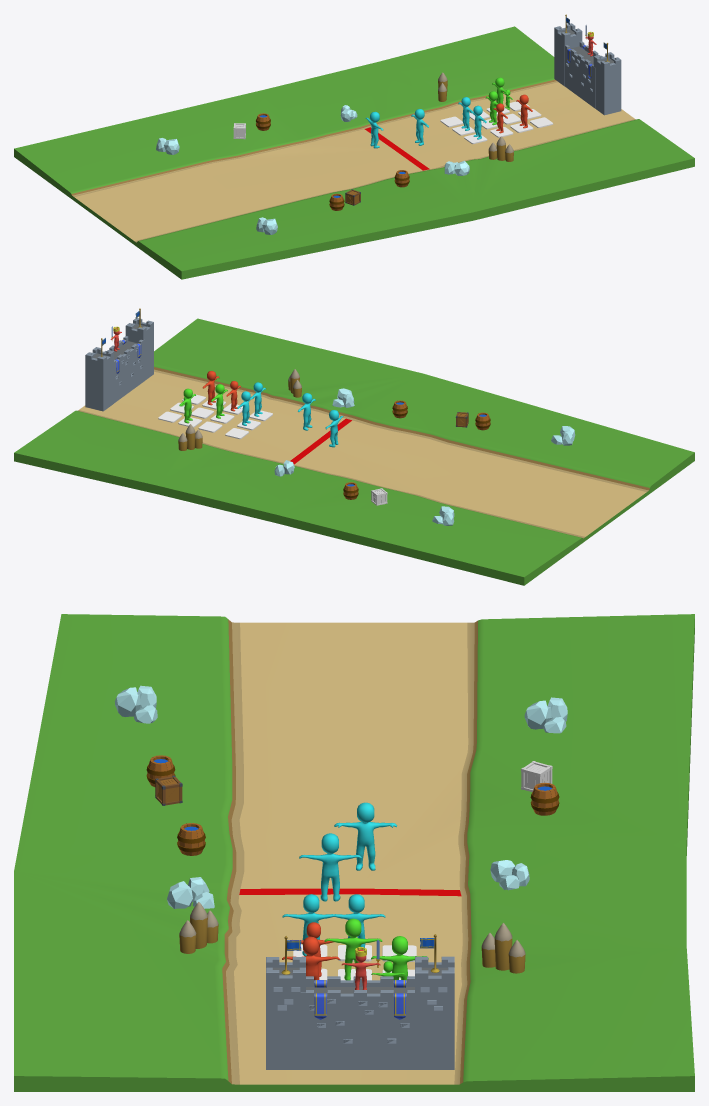
Rendered from LAST ONE (1).fbx.
3 renders of one model, top to bottom at view 1: azimuth 30°, elevation 25°; view 2: azimuth 150°, elevation 25°; view 3: azimuth 270°, elevation 25°, orthographic. The views are drawn at different scales.
Parts seen in each view (by area): view 1: Cube.001, castle, Cube.002, Cylinder.003; view 2: Cube.001, castle, Cube.002, Cylinder.001; view 3: Cube.001, castle, Cylinder.001, Cylinder.003, Mayham.008, Mayham.009, Cube.002, Mayham.003, BARREL, BARREL.001, Mayham.004, wooden boü.001 (+1 smaller).
Boxes of the visible parts, <box> form: Cube.001: <box>14,26,694,279</box>; castle: <box>554,14,621,115</box>; Cube.002: <box>440,101,553,144</box>; Cylinder.003: <box>488,136,513,161</box>; Cube.001: <box>14,318,694,585</box>; castle: <box>85,308,153,411</box>; Cube.002: <box>158,394,272,439</box>; Cylinder.001: <box>178,424,202,450</box>; Cube.001: <box>14,614,694,1091</box>; castle: <box>266,934,454,1069</box>; Cylinder.001: <box>481,923,525,973</box>; Cylinder.003: <box>179,902,218,953</box>; Mayham.008: <box>334,802,396,870</box>; Mayham.009: <box>299,833,361,901</box>; Cube.002: <box>293,944,416,980</box>; Mayham.003: <box>324,918,382,980</box>; BARREL: <box>530,782,559,815</box>; BARREL.001: <box>177,823,205,855</box>; Mayham.004: <box>371,936,428,980</box>; wooden boü.001: <box>521,761,552,791</box>.
Bounding box in the file's own units: 16330 × 2339 × 10172.
